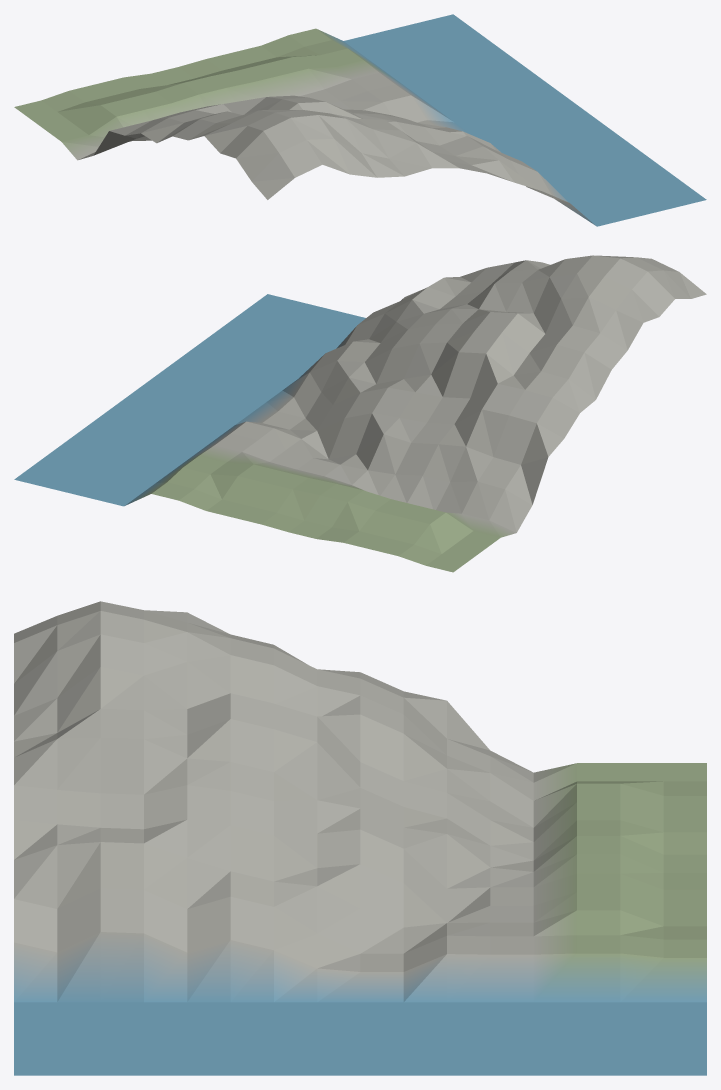
The picture shows the model from 3 angles, top to bottom: view 1: azimuth 30°, elevation 25°; view 2: azimuth 150°, elevation 25°; view 3: azimuth 270°, elevation 25°; orthographic projection. The views are drawn at different scales.
Bounding box in the file's own units: 32 × 10.63 × 32.
